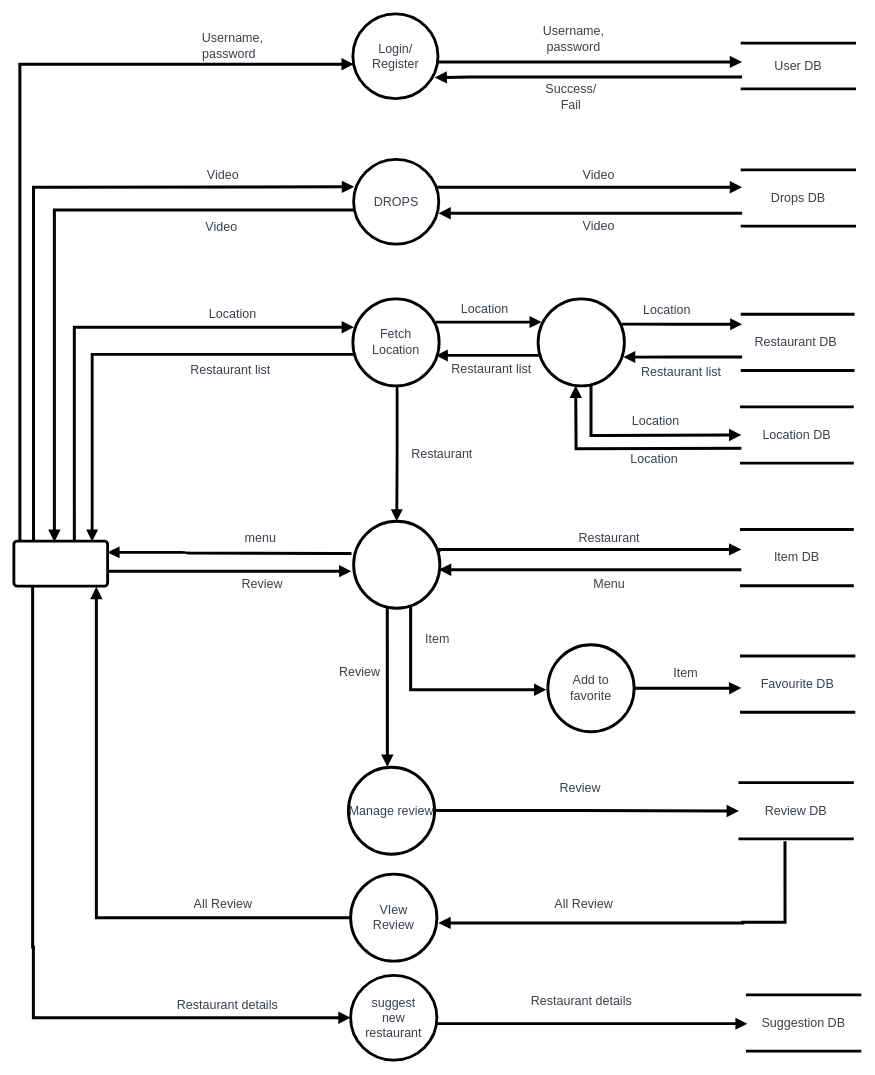
Image size: 875x1075. Some labels were removed from this diagram. The shapes that lost their labels are listed below. From the top down, each one's centre as x and y in pixels, then its label:
At pixel 580 342: "4.1 Verify location".
At pixel 60 563: "User".
At pixel 396 564: "View restaurant".
